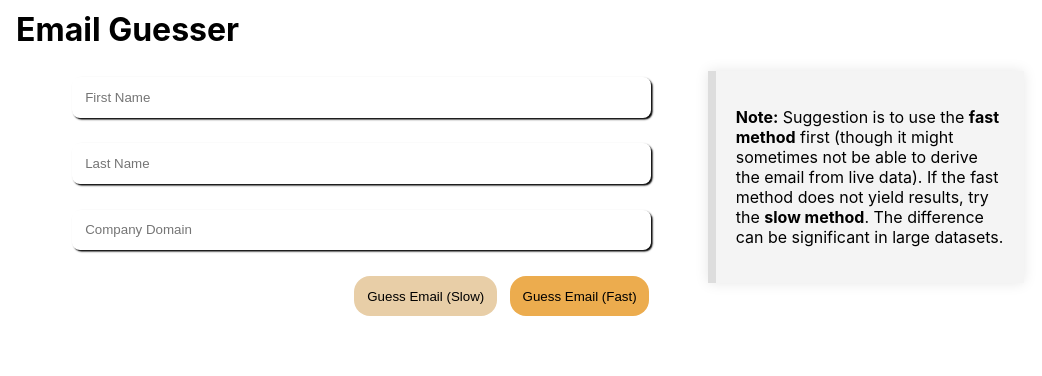
EMailGuesser › validates input fields correctly
Click the button "Guess Email (Fast)" at (580, 296), box x1=510 y1=276 x2=650 y2=316
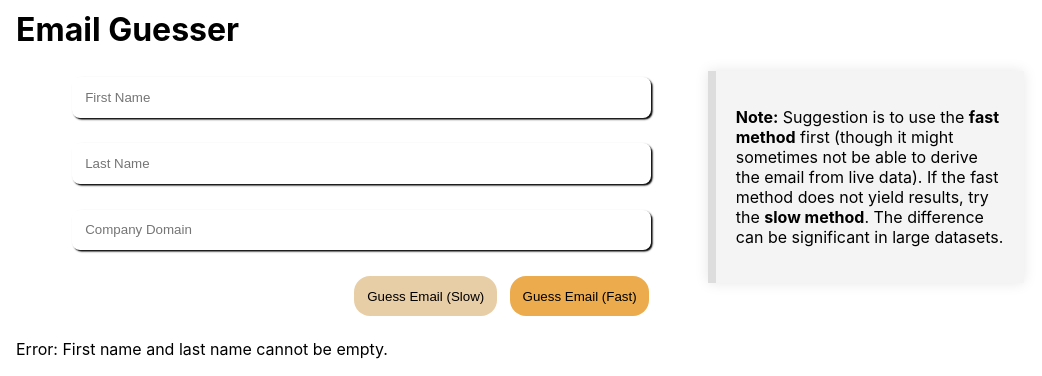
Result: the text "Error: First name and last name cannot be empty." is shown at x1=16 y1=339 x2=388 y2=359
